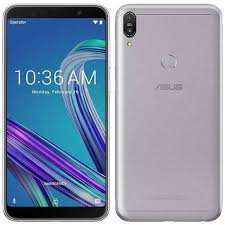asus: (114, 2, 225, 224), (1, 1, 112, 221)
